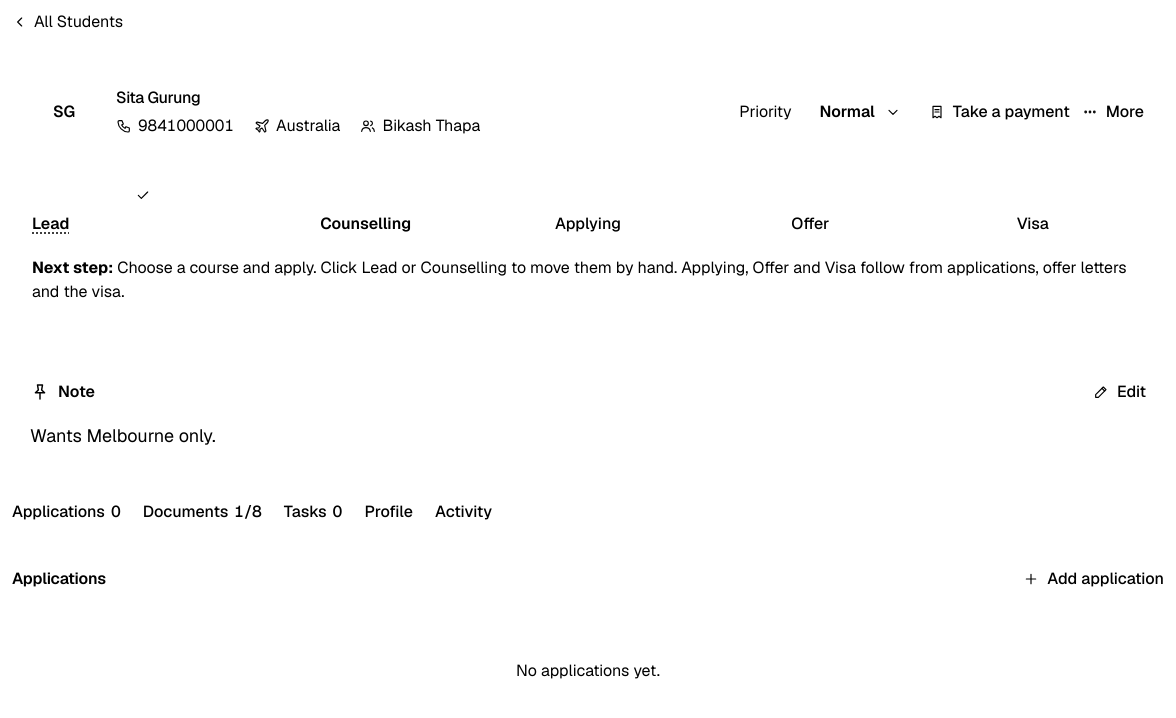
StudentProfilePage › the Note › is edited in place and saved, and says the old text is kept
Click the button "Edit". click: (1120, 392)
box: [1093,370,1146,414]
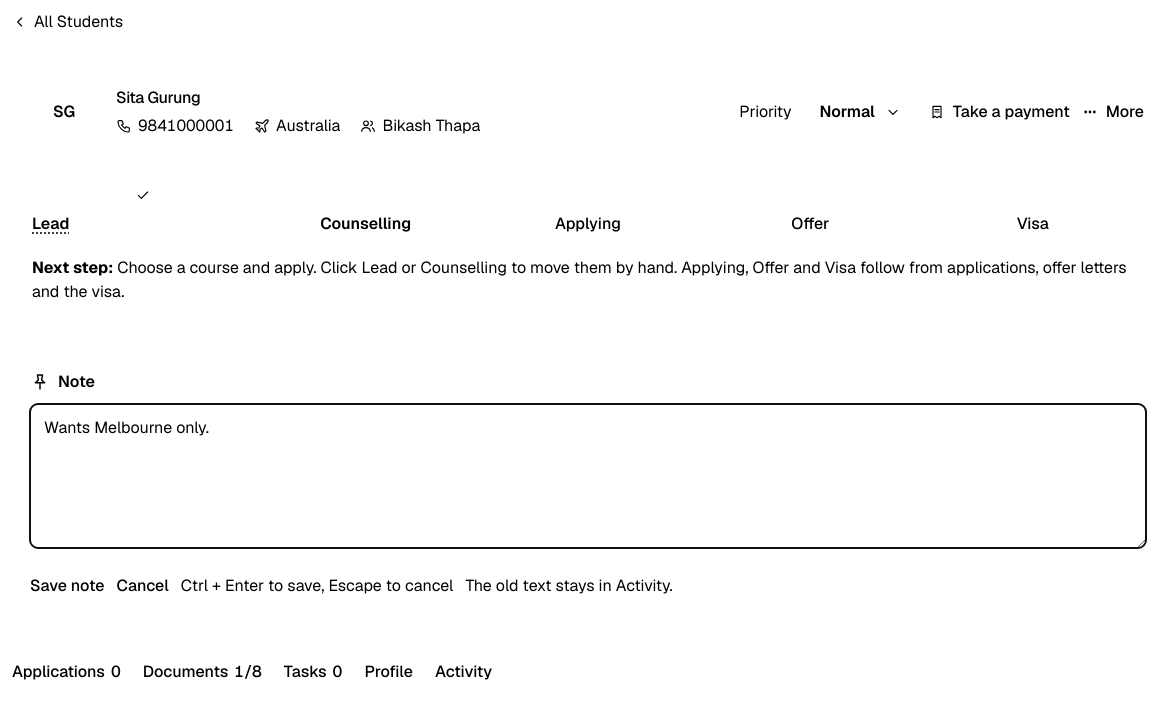
Now the text box named "Note" holds "Wants Melbourne only."
Now the text "The old text stays in Activity." is shown, box [465,574,673,598]
Replace the text in the text box named "Note" with "Wants Sydney now.". click: (588, 476)
box: [30,404,1146,548]
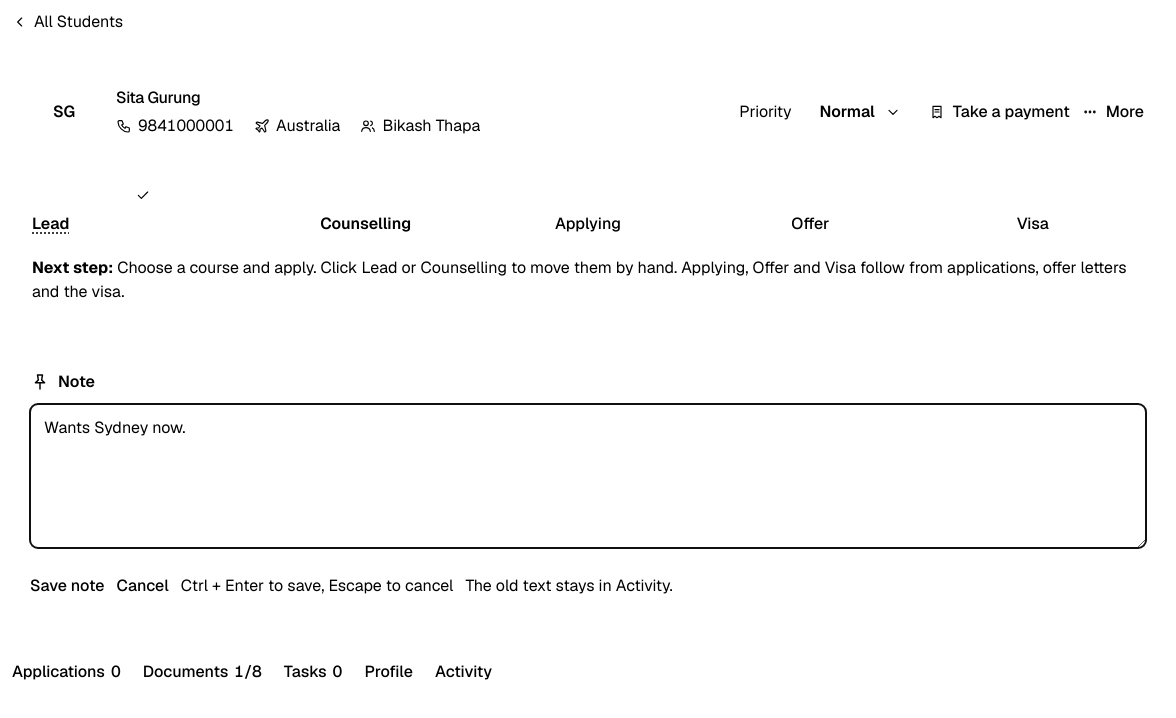
Click the button "Save note". click: (67, 586)
box: [30,564,105,608]
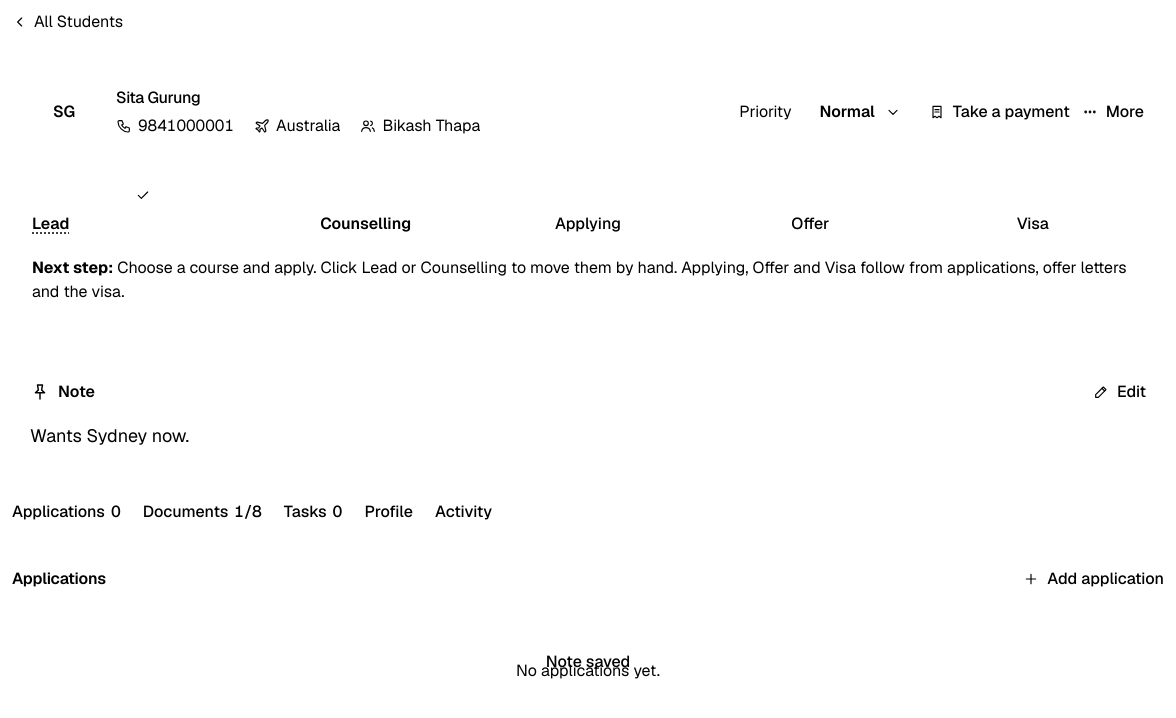
Now the text "Note saved" is shown, box [546,651,630,672]
Now the text "Wants Sydney now." is shown, box [30,424,189,447]
